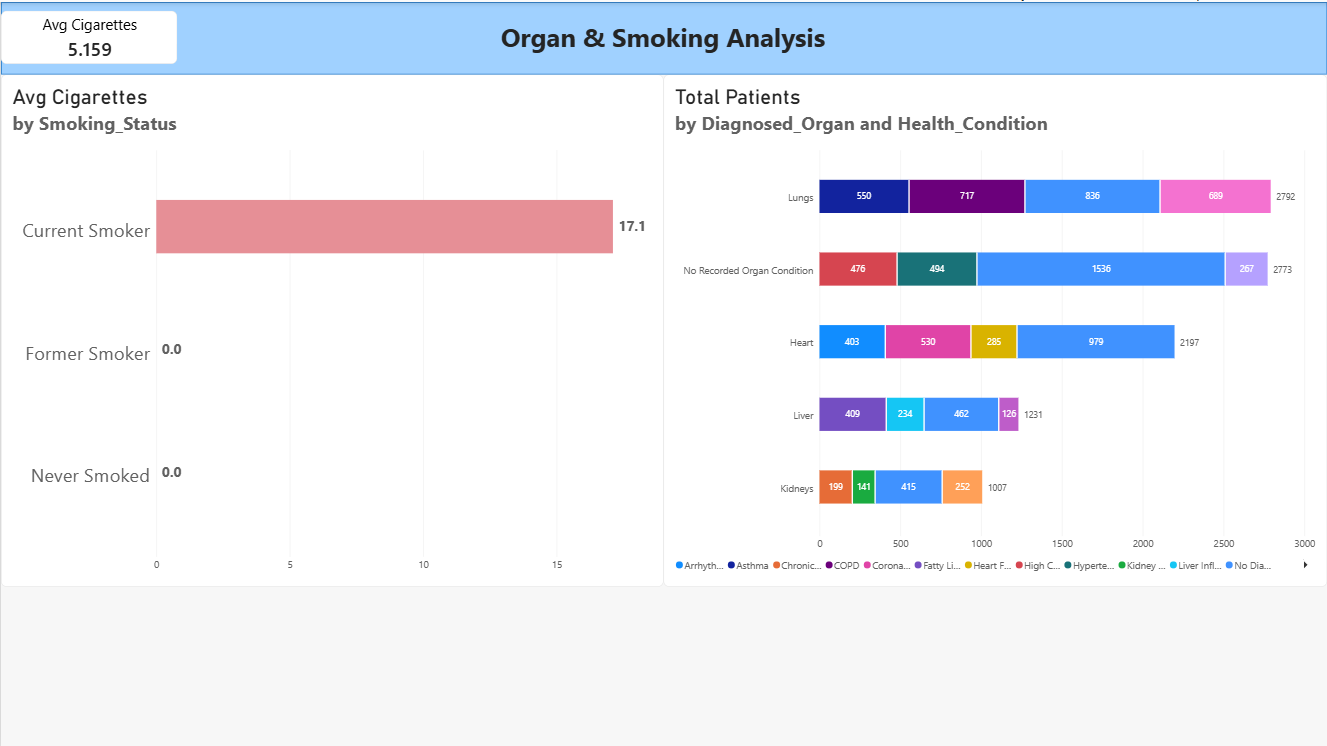

The dashboard page shown, as its layout file describes it:
{"tool":"powerbi","page":{"name":"Organ & Smoking Analysis","canvas":[1920,1080],"ordinal":1},"visuals":[{"type":"barChart","fields":{"Category":["Smoking_Health_Analysis.Smoking_Status"],"Y":["Smoking_Health_Analysis.Avg Cigarettes"]},"box":[0,105,959.1,742],"z":3},{"type":"barChart","fields":{"Category":["Smoking_Health_Analysis.Diagnosed_Organ"],"Series":["Smoking_Health_Analysis.Health_Condition"],"Y":["Smoking_Health_Analysis.Total Patients"]},"box":[959.1,105,960.9,742],"z":4},{"type":"shape","box":[0,0,1920.1,105],"z":5},{"type":"textbox","box":[696.7,25.3,523,52.5],"z":6},{"type":"cardVisual","fields":{"Data":["Smoking_Health_Analysis.Avg Cigarettes"]},"box":[0,12.7,255.2,77.8],"z":7}]}

Visuals, with their boxes in screenshot pixels (x1, y1, x2, y2), scaled from the page's 1920x1080 canvas onto the 1327x746 screenshot:
barChart - Smoking_Health_Analysis.Smoking_Status x Smoking_Health_Analysis.Avg Cigarettes: crop(0, 73, 663, 585)
barChart - Smoking_Health_Analysis.Diagnosed_Organ x Smoking_Health_Analysis.Health_Condition: crop(663, 73, 1326, 585)
shape: crop(0, 0, 1326, 73)
textbox: crop(482, 17, 843, 54)
cardVisual - Smoking_Health_Analysis.Avg Cigarettes: crop(0, 9, 176, 63)
